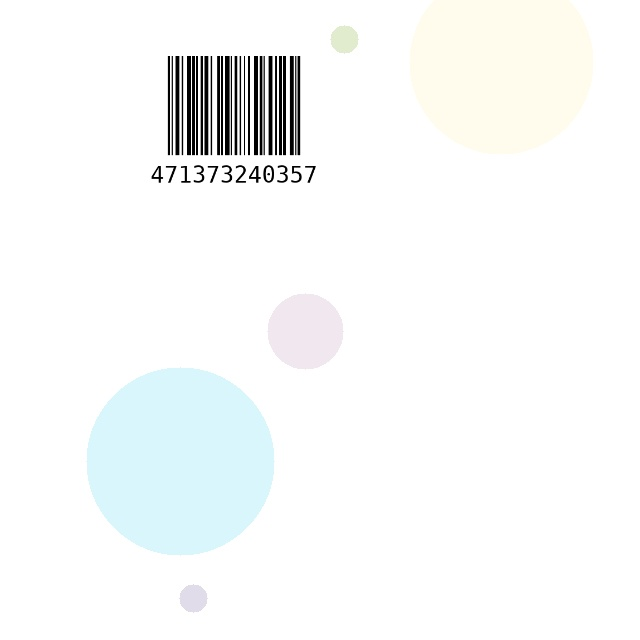barcode: (151, 50, 317, 206)
